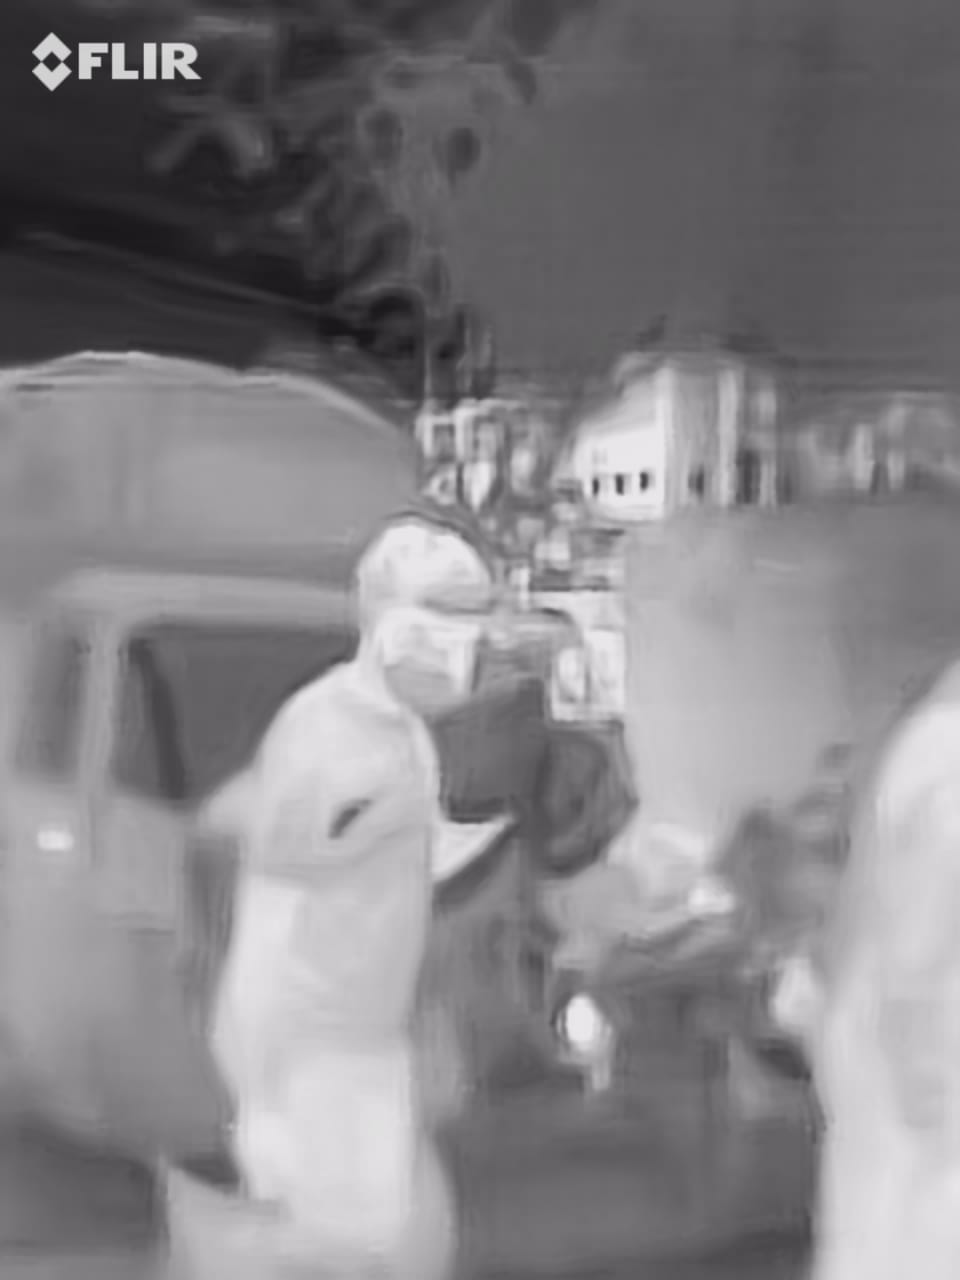head: (346, 514, 499, 727)
